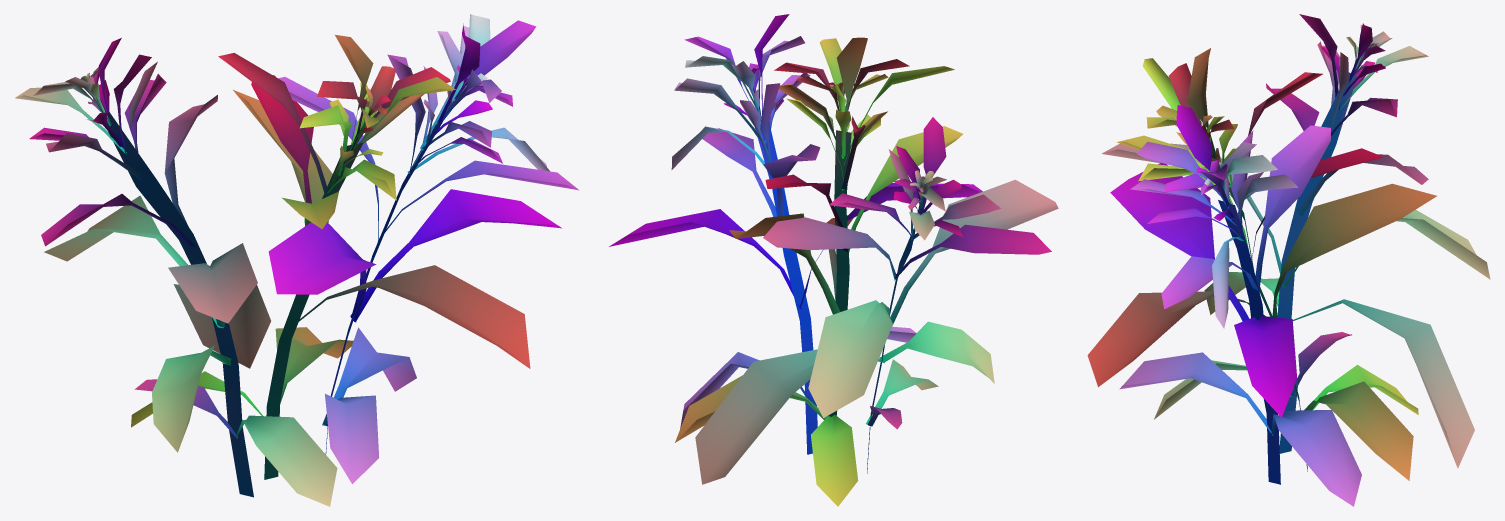
Rendered from Sage_ve3gbfoja_Mid_ve3gbfoja_VarC_LOD2.fbx.
3 views of the same model, side by side, from view 1: azimuth 30°, elevation 25°; view 2: azimuth 150°, elevation 25°; view 3: azimuth 270°, elevation 25° (orthographic). The views are drawn at different scales.
Visible parts, largest first — view 1: _ywdp_VarC_LOD4; view 2: _ywdp_VarC_LOD4; view 3: _ywdp_VarC_LOD4.
Part boxes in pixels (box(x1,y1,x2,y2)): _ywdp_VarC_LOD4: box(15, 14, 578, 506); _ywdp_VarC_LOD4: box(609, 14, 1058, 506); _ywdp_VarC_LOD4: box(1087, 14, 1490, 506).
Bounding box in the file's own units: 79.84 × 69.84 × 59.97.
